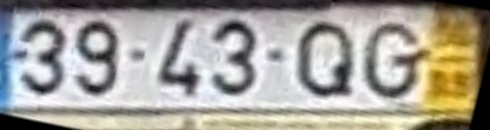3: (15, 15, 71, 102), (206, 15, 261, 101)
4: (153, 17, 206, 102)
9: (68, 17, 123, 100)
G: (361, 18, 422, 102)
Q: (293, 17, 357, 102)
